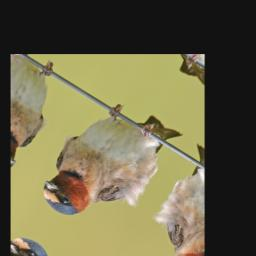Swallow: (30, 81, 185, 247)
